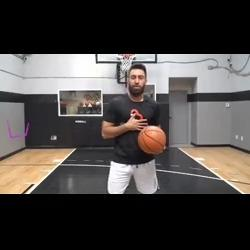BasketBall: (136, 124, 167, 155)
Player: (99, 62, 168, 194)
